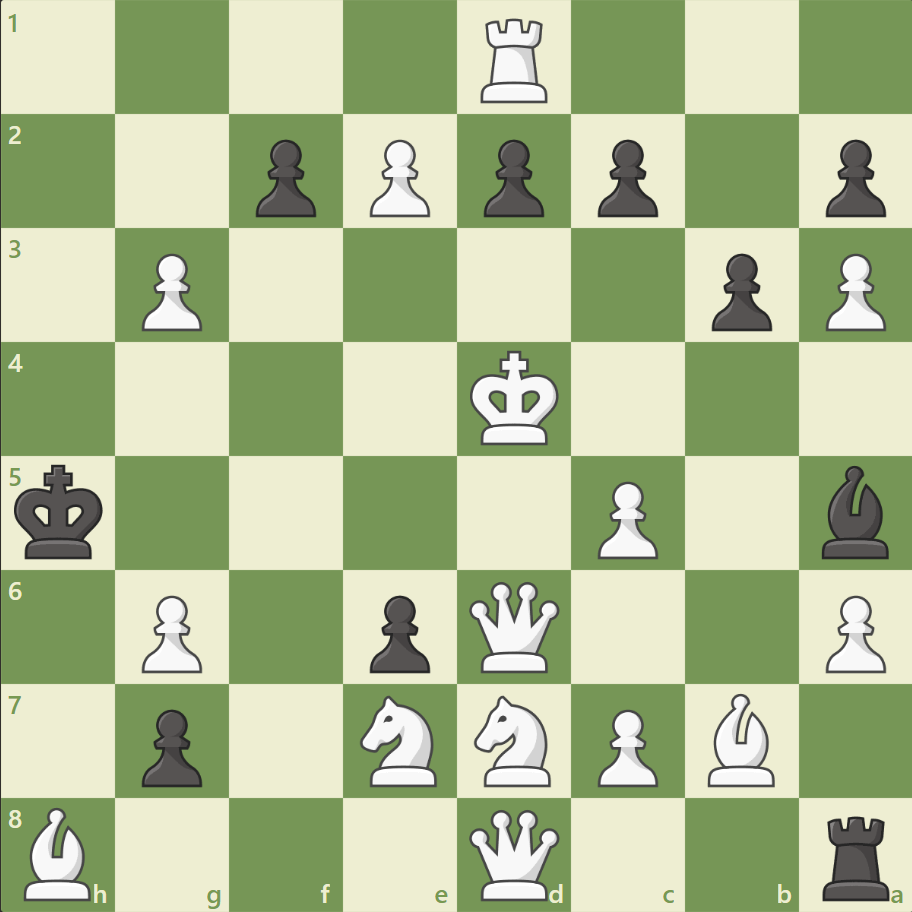B: (17, 801, 101, 904), (698, 687, 782, 790)
K: (465, 344, 565, 452)
N: (351, 688, 449, 791), (465, 688, 562, 791)
P: (133, 586, 208, 677), (133, 246, 208, 337), (588, 700, 662, 791), (815, 586, 889, 677), (588, 473, 662, 564), (815, 246, 889, 337), (361, 132, 435, 223)
Q: (464, 576, 563, 676), (464, 804, 563, 903)
R: (473, 12, 556, 109)
b: (812, 460, 896, 563)
k: (11, 458, 111, 566)
p: (133, 700, 208, 791), (701, 246, 776, 337), (474, 132, 549, 223), (247, 132, 322, 223), (361, 586, 435, 677), (815, 132, 889, 223), (588, 132, 662, 223)
r: (814, 806, 897, 904)
